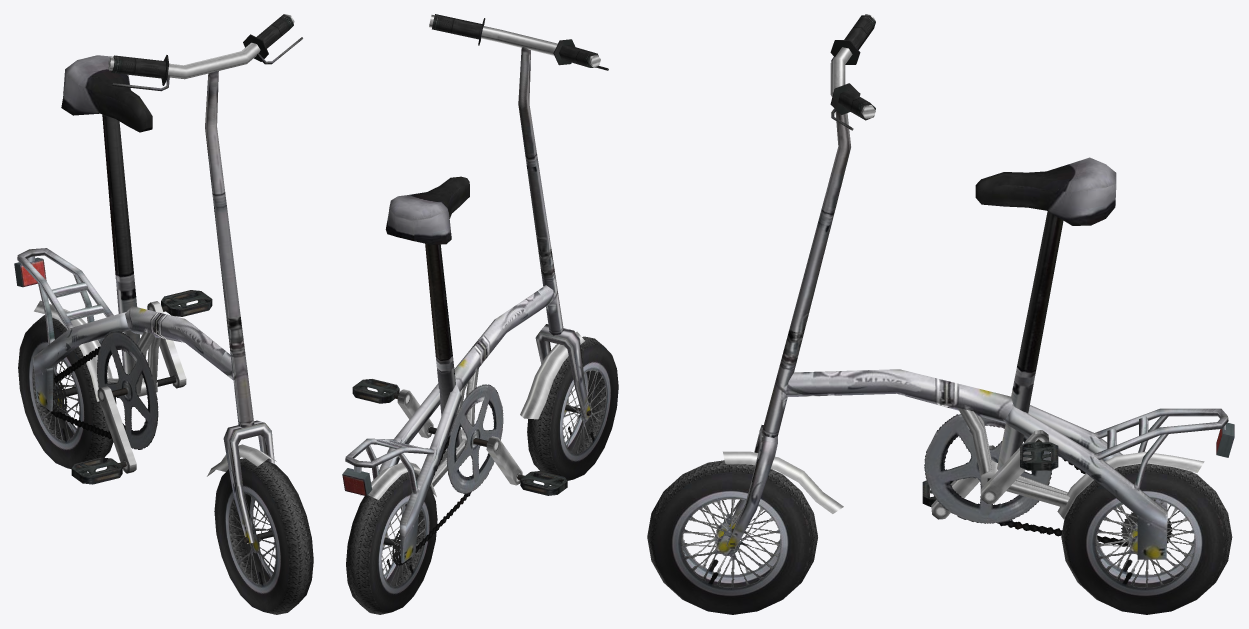
File: bike-8.FBX
3 views of the same model, side by side, from view 1: azimuth 30°, elevation 25°; view 2: azimuth 150°, elevation 25°; view 3: azimuth 270°, elevation 25° (orthographic). The views are drawn at different scales.
Parts seen in each view (by area): view 1: bicycle-8_LOD0, F_Wheel_LOD0, R_Wheel_LOD0; view 2: bicycle-8_LOD0, F_Wheel_LOD0, R_Wheel_LOD0; view 3: bicycle-8_LOD0, F_Wheel_LOD0, R_Wheel_LOD0.
Part boxes in pixels (x1=…): bicycle-8_LOD0: x1=14, y1=14, x2=302, y2=543; F_Wheel_LOD0: x1=214, y1=458, x2=313, y2=614; R_Wheel_LOD0: x1=18, y1=315, x2=116, y2=469; bicycle-8_LOD0: x1=342, y1=14, x2=608, y2=565; F_Wheel_LOD0: x1=527, y1=336, x2=618, y2=480; R_Wheel_LOD0: x1=346, y1=472, x2=437, y2=614; bicycle-8_LOD0: x1=723, y1=14, x2=1234, y2=559; F_Wheel_LOD0: x1=647, y1=460, x2=817, y2=614; R_Wheel_LOD0: x1=1061, y1=463, x2=1232, y2=614.
Size of what is drawn, in the model's own units: 21.65 by 57.18 by 54.8.
